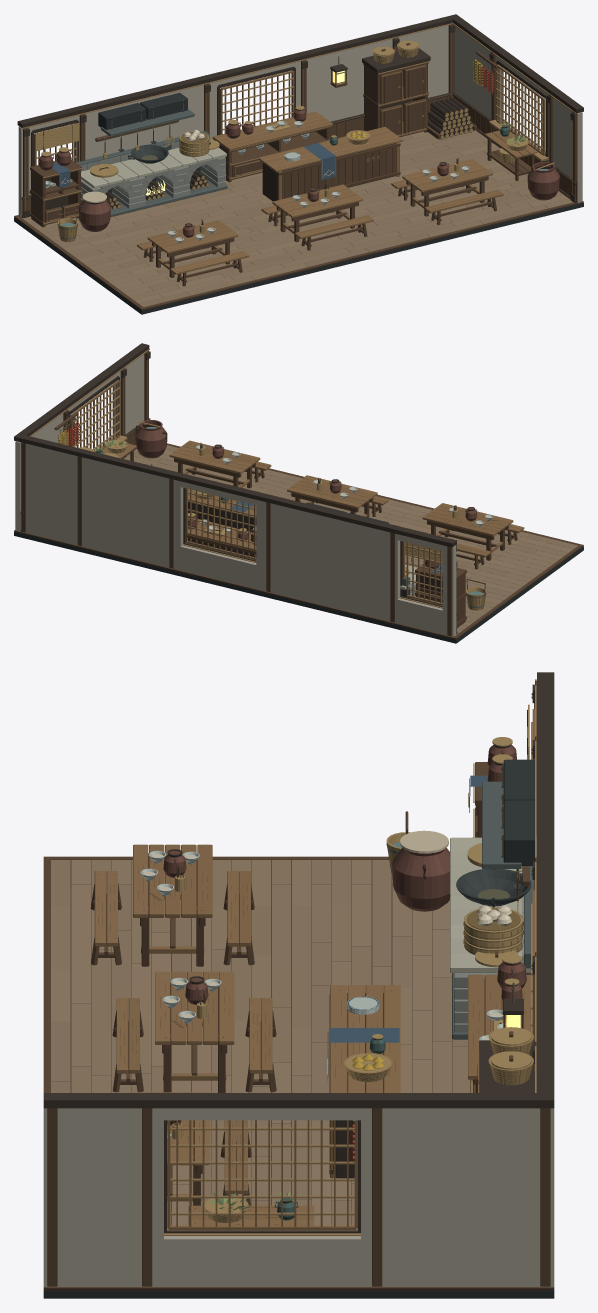
Rendered from kitchen_room.glb.
The picture shows the model from 3 angles, top to bottom: view 1: azimuth 30°, elevation 25°; view 2: azimuth 150°, elevation 25°; view 3: azimuth 270°, elevation 25°; orthographic projection. The views are drawn at different scales.
Parts seen in each view (by area): view 1: Kitchen_architecture_Kitchen_matte, Kitchen_stove_Kitchen_matte, Kitchen_counter_Kitchen_matte, Kitchen_pantry_Kitchen_matte, Kitchen_prep_cabinet_Kitchen_matte, Kitchen_crockery_shelf_Kitchen_matte, Kitchen_window_right_Kitchen_matte, Kitchen_table_center_Kitchen_matte, Kitchen_window_back_center_Kitchen_matte, Kitchen_table_east_Kitchen_matte, Kitchen_table_west_Kitchen_matte, Kitchen_produce_table_Kitchen_matte (+12 smaller); view 2: Kitchen_architecture_Kitchen_matte, Kitchen_window_back_center_Kitchen_matte, Kitchen_table_west_Kitchen_matte, Kitchen_table_east_Kitchen_matte, Kitchen_window_right_Kitchen_matte, Kitchen_table_center_Kitchen_matte, Kitchen_window_back_left_Kitchen_matte, Kitchen_prep_cabinet_Kitchen_matte, Kitchen_counter_Kitchen_matte, Kitchen_crockery_shelf_Kitchen_matte, Kitchen_water_jar_east_Kitchen_matte, Kitchen_hanging_produce_Kitchen_matte (+4 smaller); view 3: Kitchen_architecture_Kitchen_matte, Kitchen_stove_Kitchen_matte, Kitchen_window_right_Kitchen_matte, Kitchen_counter_Kitchen_matte, Kitchen_table_west_Kitchen_matte, Kitchen_table_center_Kitchen_matte, Kitchen_prep_cabinet_Kitchen_matte, Kitchen_water_jar_west_Kitchen_matte, Kitchen_pantry_Kitchen_matte, Kitchen_steamers_Kitchen_matte, Kitchen_produce_table_Kitchen_matte, Kitchen_bench_center_front_Kitchen_matte (+7 smaller).
Part boxes in pixels (bbox=[...]): Kitchen_architecture_Kitchen_matte: bbox=[14, 14, 583, 314]; Kitchen_stove_Kitchen_matte: bbox=[77, 93, 227, 216]; Kitchen_counter_Kitchen_matte: bbox=[258, 127, 402, 201]; Kitchen_pantry_Kitchen_matte: bbox=[362, 40, 430, 136]; Kitchen_prep_cabinet_Kitchen_matte: bbox=[212, 105, 332, 182]; Kitchen_crockery_shelf_Kitchen_matte: bbox=[30, 147, 82, 227]; Kitchen_window_right_Kitchen_matte: bbox=[489, 60, 548, 161]; Kitchen_table_center_Kitchen_matte: bbox=[272, 184, 362, 242]; Kitchen_window_back_center_Kitchen_matte: bbox=[217, 66, 295, 135]; Kitchen_table_east_Kitchen_matte: bbox=[402, 158, 492, 216]; Kitchen_table_west_Kitchen_matte: bbox=[147, 219, 238, 277]; Kitchen_produce_table_Kitchen_matte: bbox=[485, 121, 537, 180]; Kitchen_architecture_Kitchen_matte: bbox=[14, 343, 583, 643]; Kitchen_window_back_center_Kitchen_matte: bbox=[182, 488, 256, 562]; Kitchen_table_west_Kitchen_matte: bbox=[422, 503, 513, 560]; Kitchen_table_east_Kitchen_matte: bbox=[169, 440, 260, 488]; Kitchen_window_right_Kitchen_matte: bbox=[68, 376, 127, 452]; Kitchen_table_center_Kitchen_matte: bbox=[287, 475, 377, 517]; Kitchen_window_back_left_Kitchen_matte: bbox=[399, 541, 442, 608]; Kitchen_prep_cabinet_Kitchen_matte: bbox=[187, 512, 256, 557]; Kitchen_counter_Kitchen_matte: bbox=[188, 489, 256, 531]; Kitchen_crockery_shelf_Kitchen_matte: bbox=[415, 560, 467, 627]; Kitchen_water_jar_east_Kitchen_matte: bbox=[135, 420, 167, 458]; Kitchen_hanging_produce_Kitchen_matte: bbox=[54, 413, 80, 446]; Kitchen_architecture_Kitchen_matte: bbox=[43, 672, 554, 1298]; Kitchen_stove_Kitchen_matte: bbox=[450, 759, 536, 1039]; Kitchen_window_right_Kitchen_matte: bbox=[164, 1120, 360, 1235]; Kitchen_counter_Kitchen_matte: bbox=[326, 985, 400, 1178]; Kitchen_table_west_Kitchen_matte: bbox=[133, 844, 212, 966]; Kitchen_table_center_Kitchen_matte: bbox=[155, 971, 234, 1092]; Kitchen_prep_cabinet_Kitchen_matte: bbox=[468, 954, 530, 1092]; Kitchen_water_jar_west_Kitchen_matte: bbox=[392, 830, 449, 911]; Kitchen_pantry_Kitchen_matte: bbox=[477, 1027, 536, 1092]; Kitchen_steamers_Kitchen_matte: bbox=[463, 905, 523, 967]; Kitchen_produce_table_Kitchen_matte: bbox=[188, 1190, 314, 1225]; Kitchen_bench_center_front_Kitchen_matte: bbox=[112, 998, 143, 1092].
Size of the model in its own units: 14 by 3 by 7.
